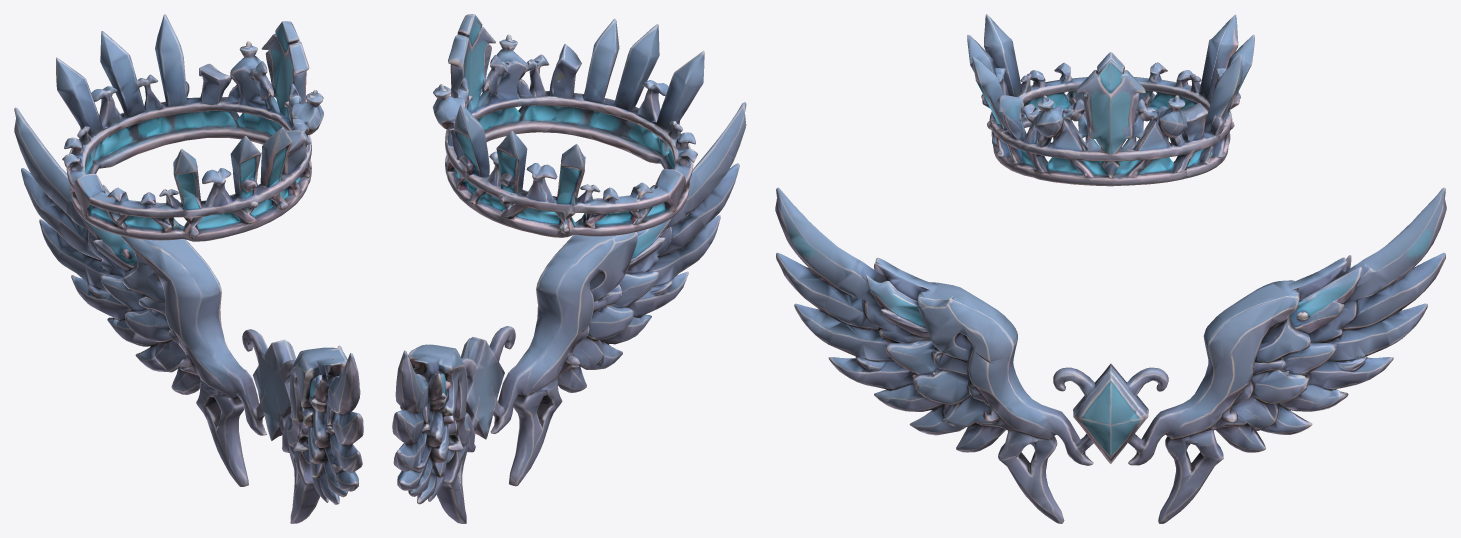
The model's file is tripo_h31_character_crystal_crown_halo_kit.glb.
The picture shows the model from 3 angles, left to right: view 1: azimuth 30°, elevation 25°; view 2: azimuth 150°, elevation 25°; view 3: azimuth 270°, elevation 25°; orthographic projection.
Parts seen in each view (by area): view 1: tripo_node_e108ef66-4602-4789-97bb-e76e2c954f9f; view 2: tripo_node_e108ef66-4602-4789-97bb-e76e2c954f9f; view 3: tripo_node_e108ef66-4602-4789-97bb-e76e2c954f9f.
Part boxes in pixels (x1,y1,x2,y2): tripo_node_e108ef66-4602-4789-97bb-e76e2c954f9f: (14,14,363,523); tripo_node_e108ef66-4602-4789-97bb-e76e2c954f9f: (392,14,746,523); tripo_node_e108ef66-4602-4789-97bb-e76e2c954f9f: (775,14,1446,523).
Size of the model in its own units: 0.3869 by 0.7839 by 0.9999.
1 material, 1 textured.
